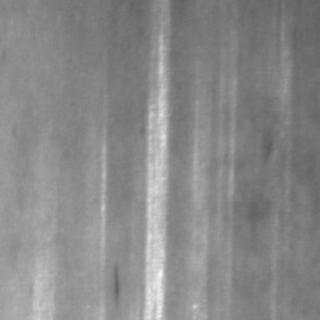scratches: (133, 29, 169, 317)
